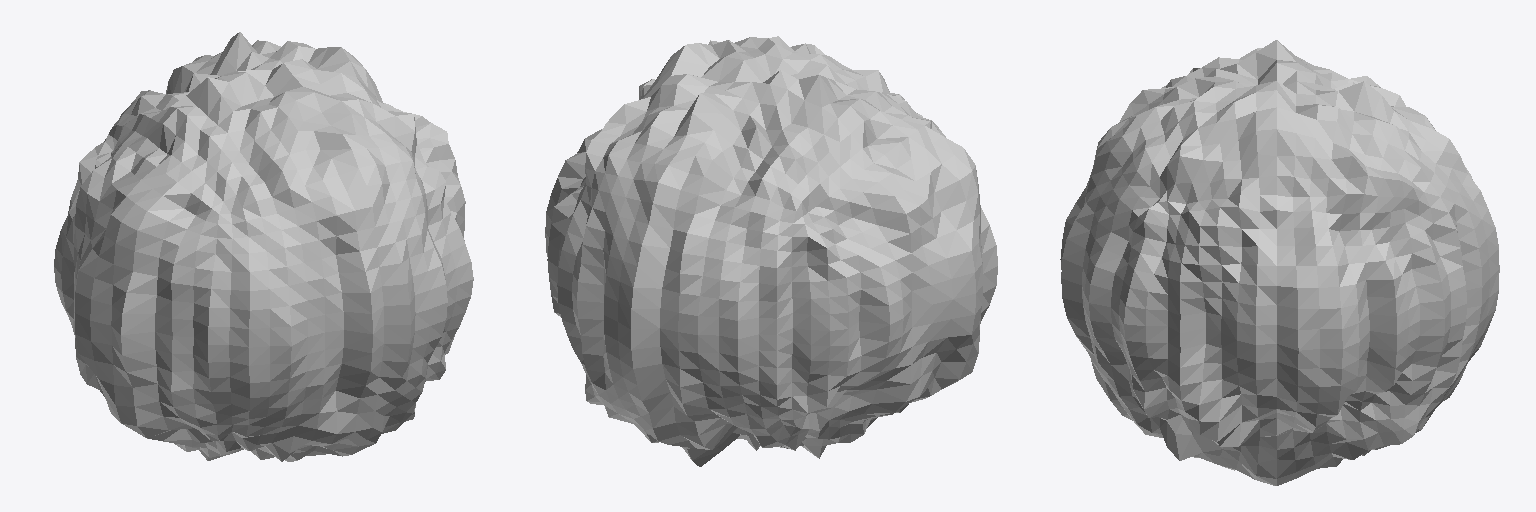
File: asteroid141.obj
3 views of the same model, side by side, from view 1: azimuth 30°, elevation 25°; view 2: azimuth 150°, elevation 25°; view 3: azimuth 270°, elevation 25° (orthographic).
Visible parts, largest first — view 1: Cube_Cube.002; view 2: Cube_Cube.002; view 3: Cube_Cube.002.
Boxes of the visible parts, box(x1,y1,x2,y2) form: Cube_Cube.002: box(54, 32, 473, 461); Cube_Cube.002: box(545, 36, 997, 466); Cube_Cube.002: box(1060, 40, 1499, 485).
Bounding box in the file's own units: 1.82 × 1.72 × 1.78.